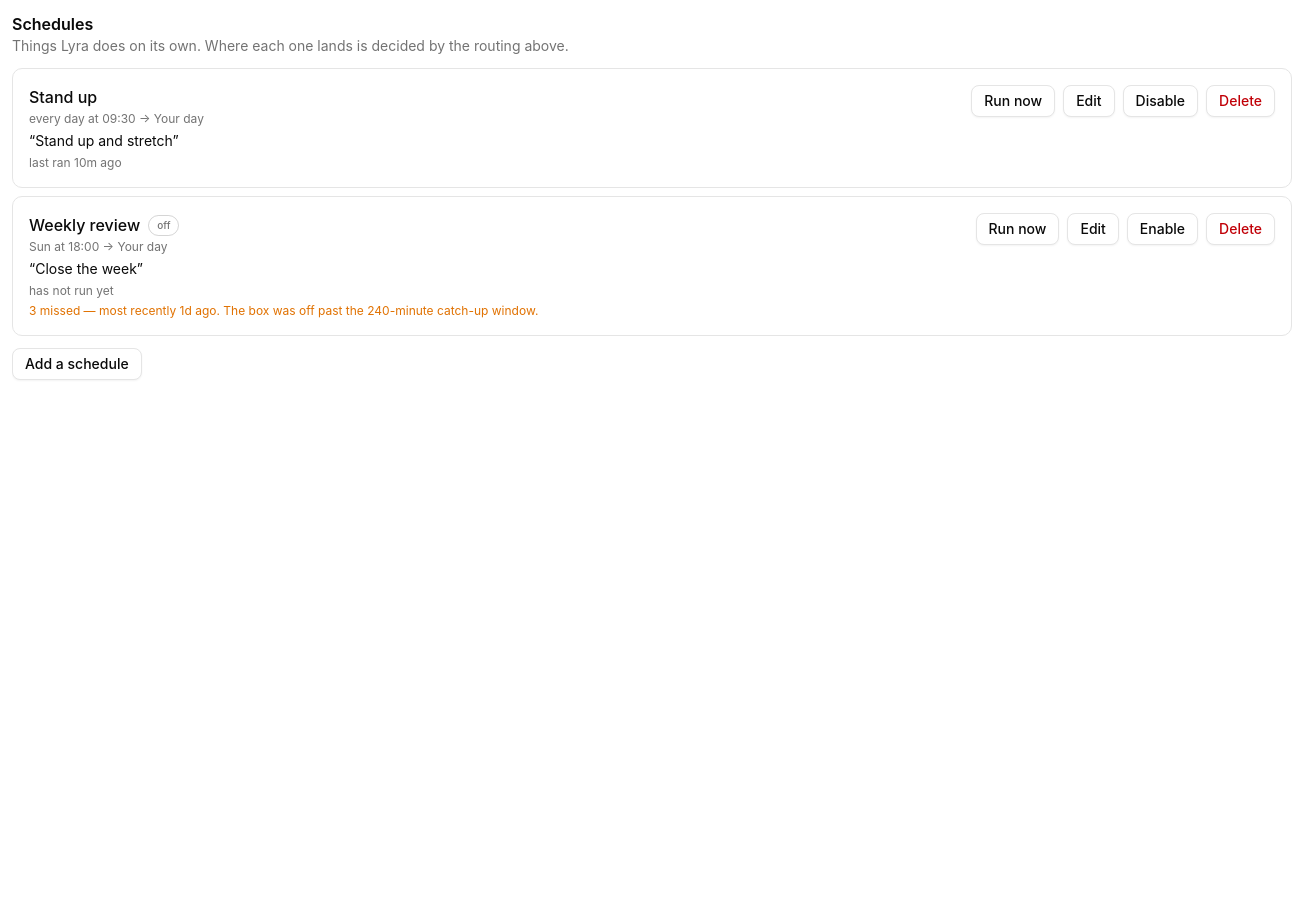
Test: editing one › seeds a weekly schedule with its own days, not the default
Click the button "Edit" in the row of "Weekly review" at (1093, 229), box [1067, 213, 1119, 245]
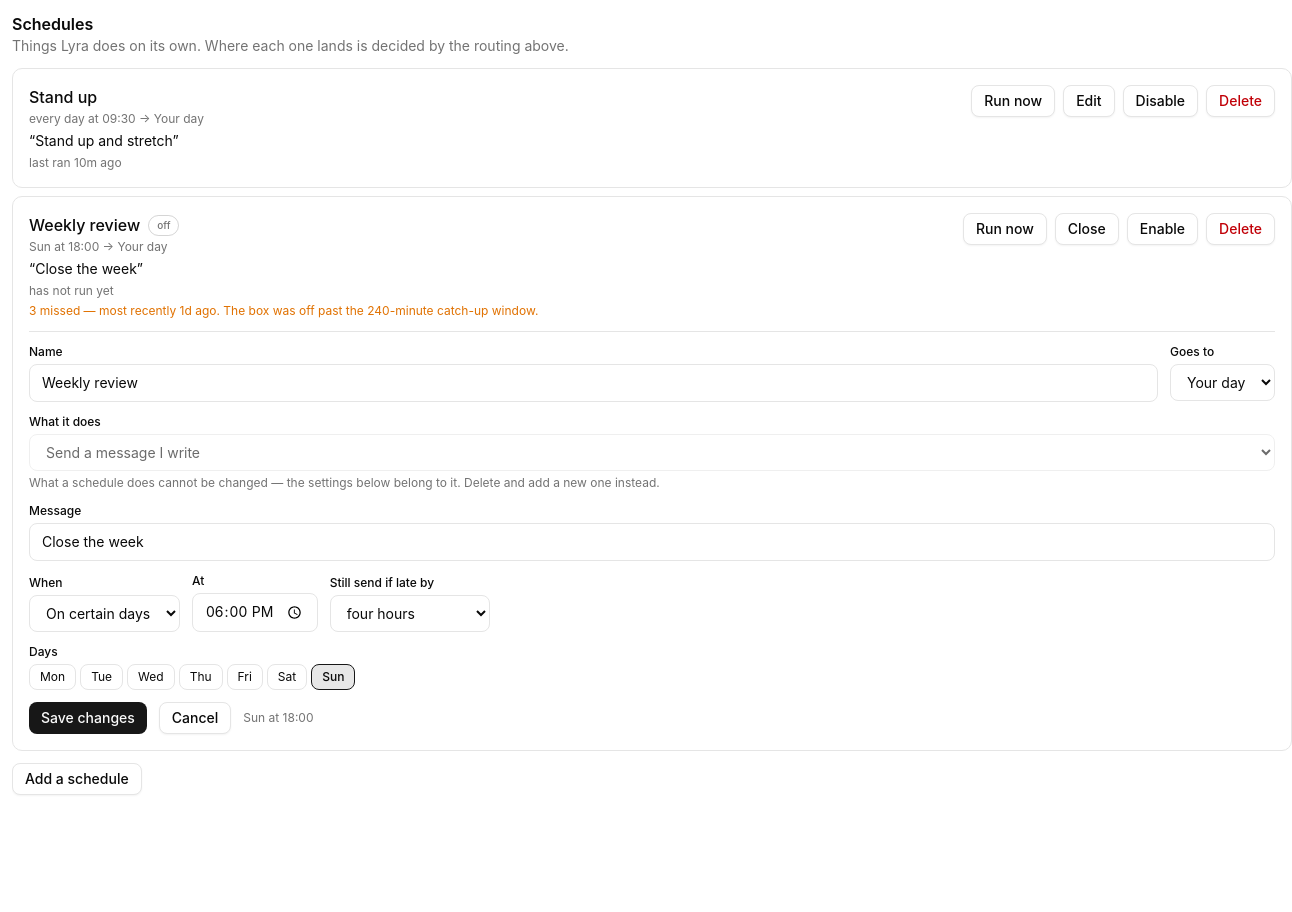
Expected: the dropdown labelled "When" shows "On certain days", [29, 595, 180, 632]
